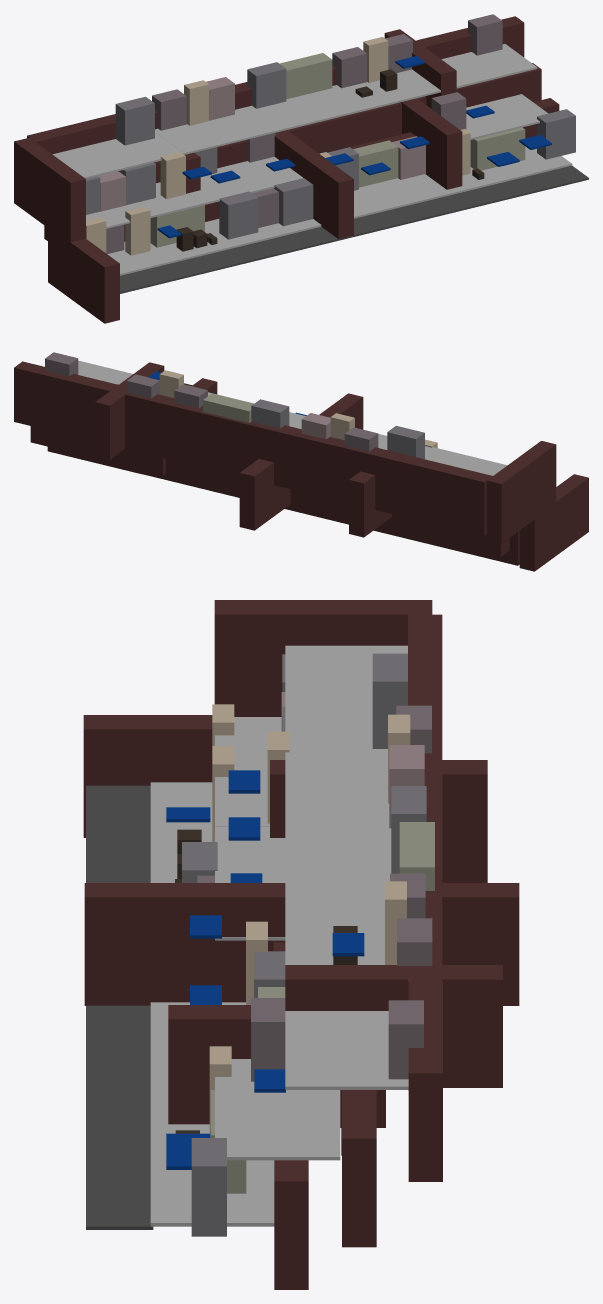
Rendered from TestBuild_blockOut.fbx.
3 renders of one model, top to bottom at view 1: azimuth 30°, elevation 25°; view 2: azimuth 150°, elevation 25°; view 3: azimuth 270°, elevation 25°, orthographic. The views are drawn at different scales.
Visible parts, largest first — view 1: brickWall_9, brickWall_3, brickWall_1, pCube47, brickWall_2, pCube48, pCube46, pCube49, pCube54, pCube34, pCube42, pCube61 (+47 smaller); view 2: brickWall_4, brickWall_7, brickWall_11, brickWall_10, brickWall_12, brickWall_9, brickWall_3, brickWall_6, brickWall_8, brickWall_5, brickWall_13, brickWall_23 (+23 smaller); view 3: brickWall_1, brickWall_8, brickWall_23, pCube47, pCube46, pCube61, brickWall_9, pCube48, brickWall_3, pCube49, brickWall_2, pCube42 (+33 smaller).
Part boxes in pixels (<box>): brickWall_9: <box>48,226,119,323</box>; brickWall_3: <box>14,147,85,243</box>; brickWall_1: <box>282,138,353,239</box>; pCube47: <box>155,104,301,154</box>; brickWall_2: <box>400,98,462,189</box>; pCube48: <box>275,79,419,126</box>; pCube46: <box>52,132,184,178</box>; pCube49: <box>396,44,537,97</box>; pCube54: <box>354,174,454,218</box>; pCube34: <box>188,156,302,205</box>; pCube42: <box>455,165,588,208</box>; pCube61: <box>466,94,548,139</box>; brickWall_4: <box>390,453,492,536</box>; brickWall_7: <box>14,361,116,441</box>; brickWall_11: <box>202,412,301,490</box>; brickWall_10: <box>296,432,398,513</box>; brickWall_12: <box>108,384,203,467</box>; brickWall_9: <box>519,474,588,571</box>; brickWall_3: <box>487,450,556,543</box>; brickWall_6: <box>239,459,290,530</box>; brickWall_8: <box>95,362,164,459</box>; brickWall_5: <box>349,471,391,537</box>; brickWall_13: <box>406,517,509,556</box>; brickWall_23: <box>487,441,556,534</box>; brickWall_1: <box>84,883,285,1005</box>; brickWall_8: <box>285,965,502,1087</box>; brickWall_23: <box>214,600,432,716</box>; pCube47: <box>285,755,391,865</box>; pCube46: <box>285,645,407,755</box>; pCube61: <box>215,1059,340,1160</box>; brickWall_9: <box>83,715,212,837</box>; pCube48: <box>285,865,391,964</box>; brickWall_3: <box>214,625,407,716</box>; pCube49: <box>285,1011,408,1089</box>; brickWall_2: <box>168,1005,385,1127</box>; pCube42: <box>86,1116,153,1229</box>.
Bounding box in the file's own units: 5292 × 1374 × 2059.
